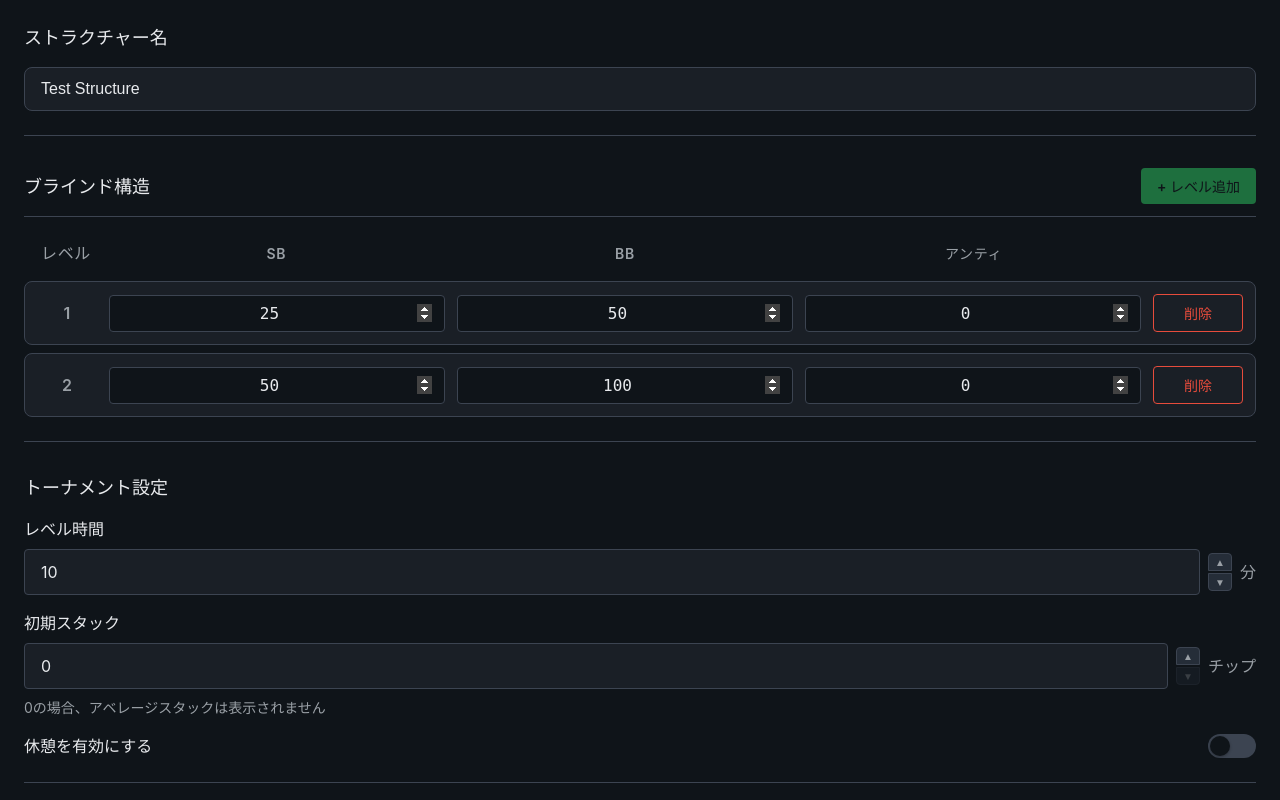
StructureEditor › 休憩トグルをオンにすると休憩設定が表示される
What coordinates should you click on to do the following:
click the switch with test id "toggle-switch"
I would click on:
 (1232, 746)
Its box is [1208,734,1256,758].
(page scrolled)
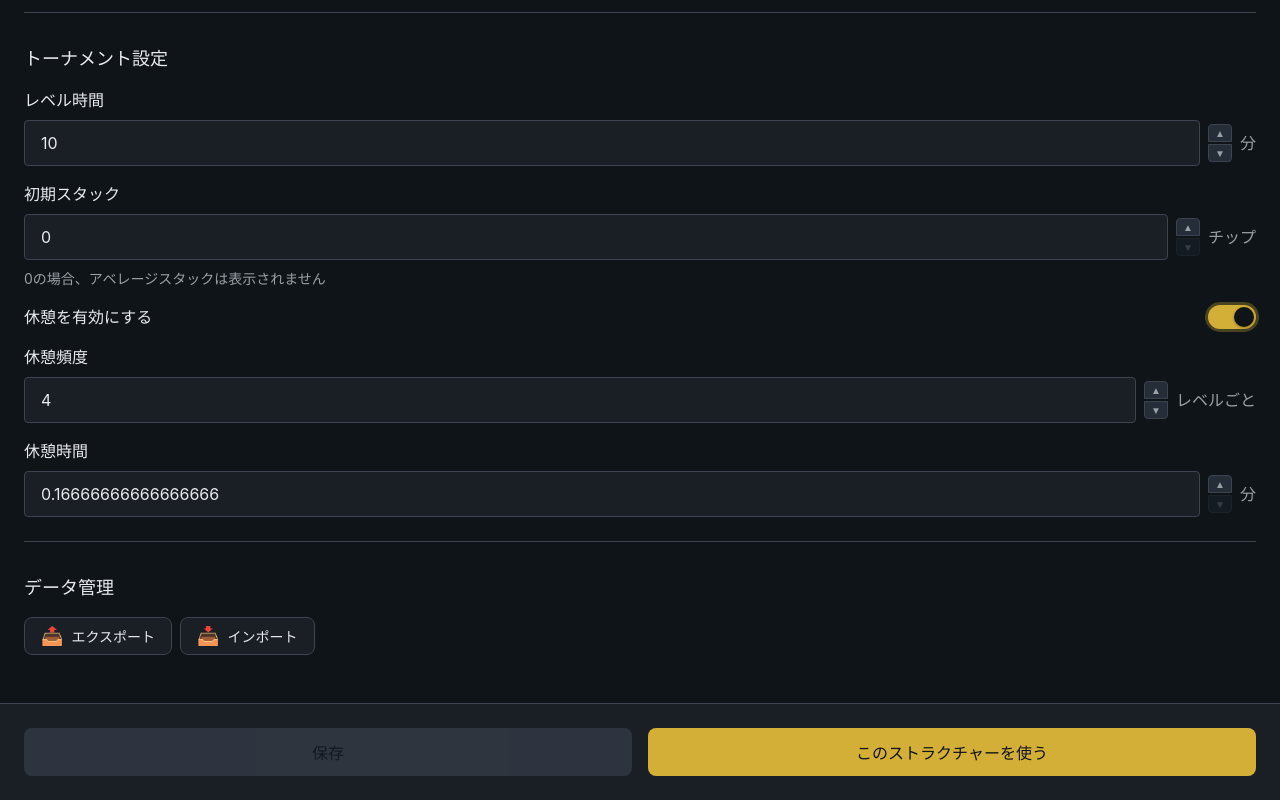
Now the text "休憩頻度" is shown, box [24,347,88,367]
Now the text "休憩時間" is shown, box [24,441,88,461]
